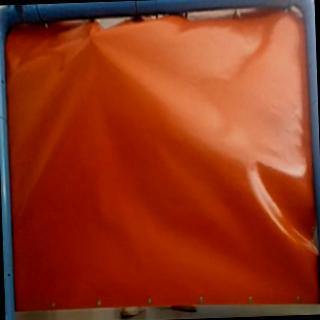Hit-hRxx: (85, 30, 99, 44)
